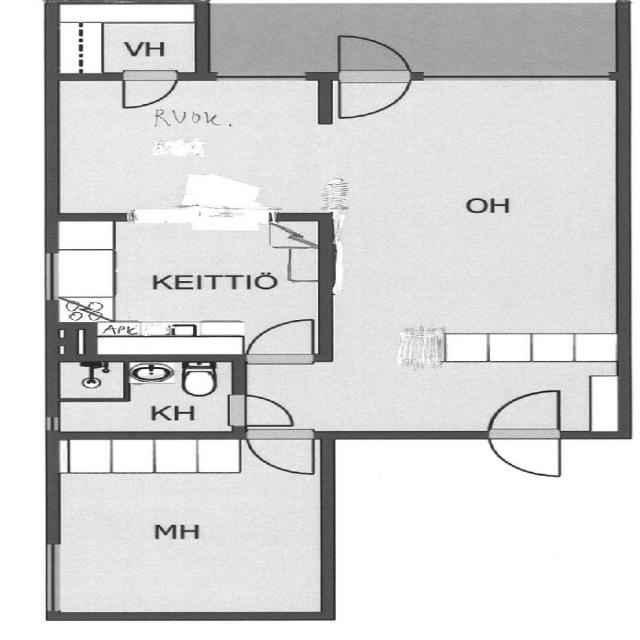door: (488, 430, 560, 480), (339, 72, 410, 122), (488, 389, 560, 438), (339, 31, 410, 80), (246, 430, 314, 478), (246, 316, 312, 362), (122, 72, 176, 111), (232, 395, 299, 425)
